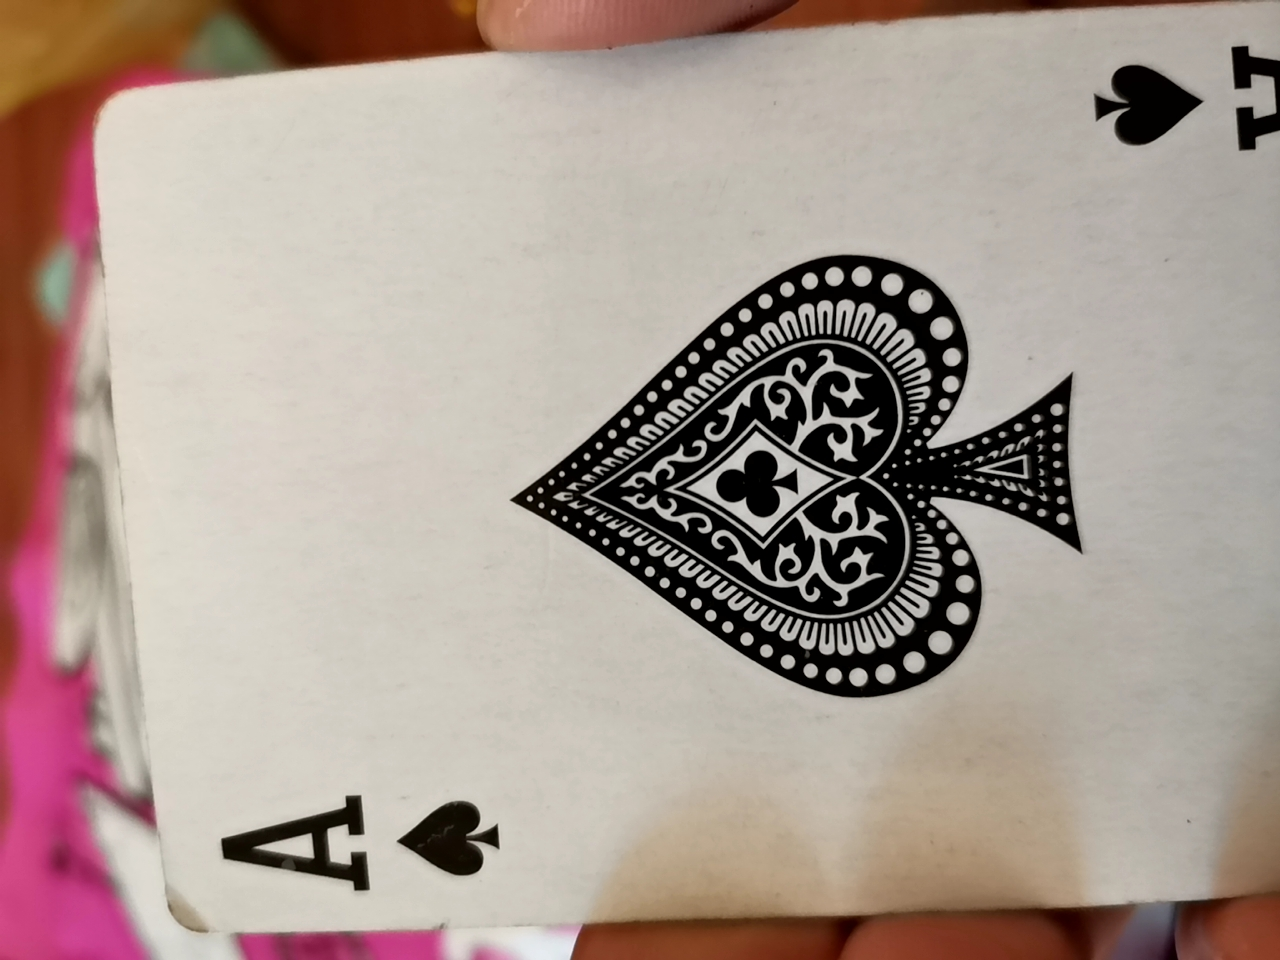ht a: (81, 12, 1269, 953)
